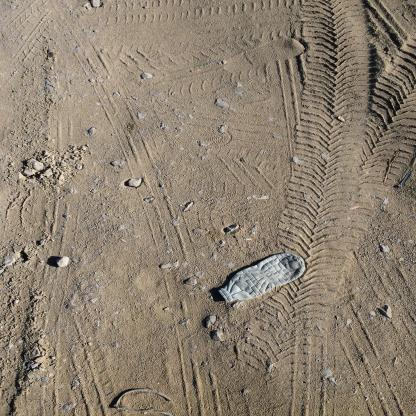Cigarette: (349, 206, 360, 210)
Clear plastic bottle: (218, 252, 305, 303)
Other plastic bottle: (115, 389, 174, 416), (399, 171, 410, 188)
